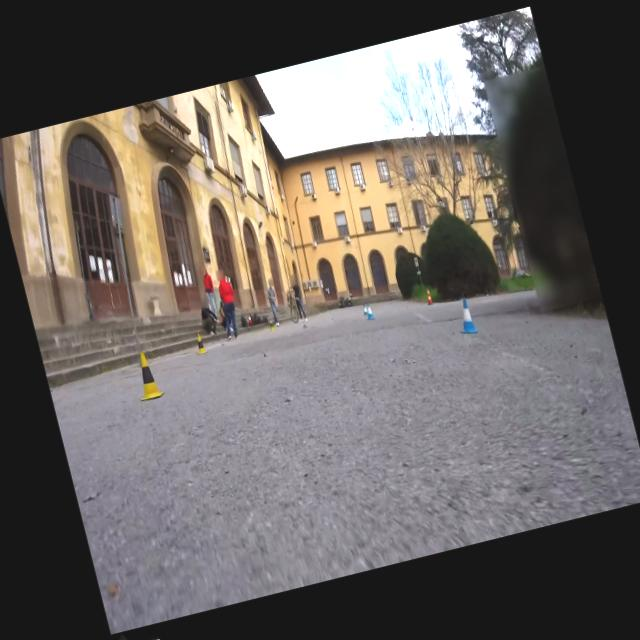blue_cone: (452, 297, 478, 337), (363, 302, 375, 321), (361, 303, 368, 315)
large_orange_cone: (423, 286, 434, 306)
orange_cone: (247, 314, 252, 323)
yellow_cone: (130, 349, 166, 402), (194, 332, 207, 354), (268, 320, 274, 330)
